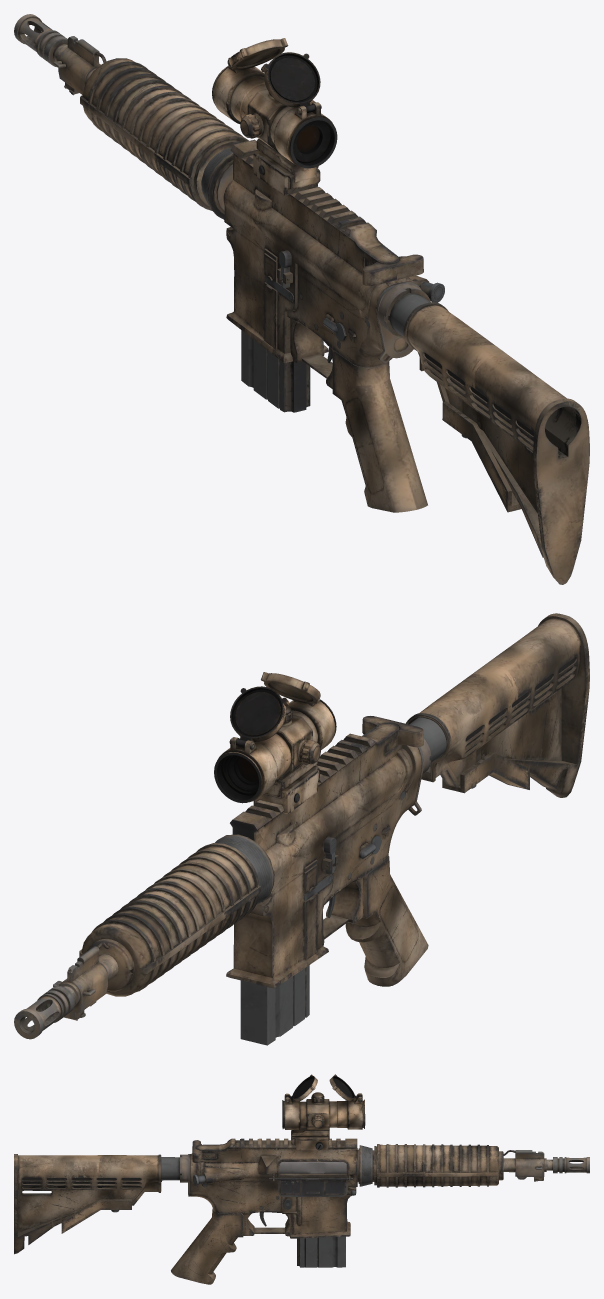
3 renders of one model, top to bottom at view 1: azimuth 30°, elevation 25°; view 2: azimuth 150°, elevation 25°; view 3: azimuth 270°, elevation 25°, orthographic. The views are drawn at different scales.
Visible parts, largest first — view 1: body, mag; view 2: body, mag; view 3: body, mag, bolt.
Part boxes in pixels (left/top/right/bottom): body: left=14, top=14, right=589, bottom=584; mag: left=241, top=330, right=310, bottom=412; body: left=14, top=613, right=589, bottom=1039; mag: left=240, top=965, right=309, bottom=1045; body: left=14, top=1074, right=589, bottom=1284; mag: left=297, top=1236, right=345, bottom=1267; bolt: left=279, top=1162, right=346, bottom=1173.
Bounding box in the file's own units: 0.0801 × 0.3285 × 0.84.
2 materials, 2 textured.
